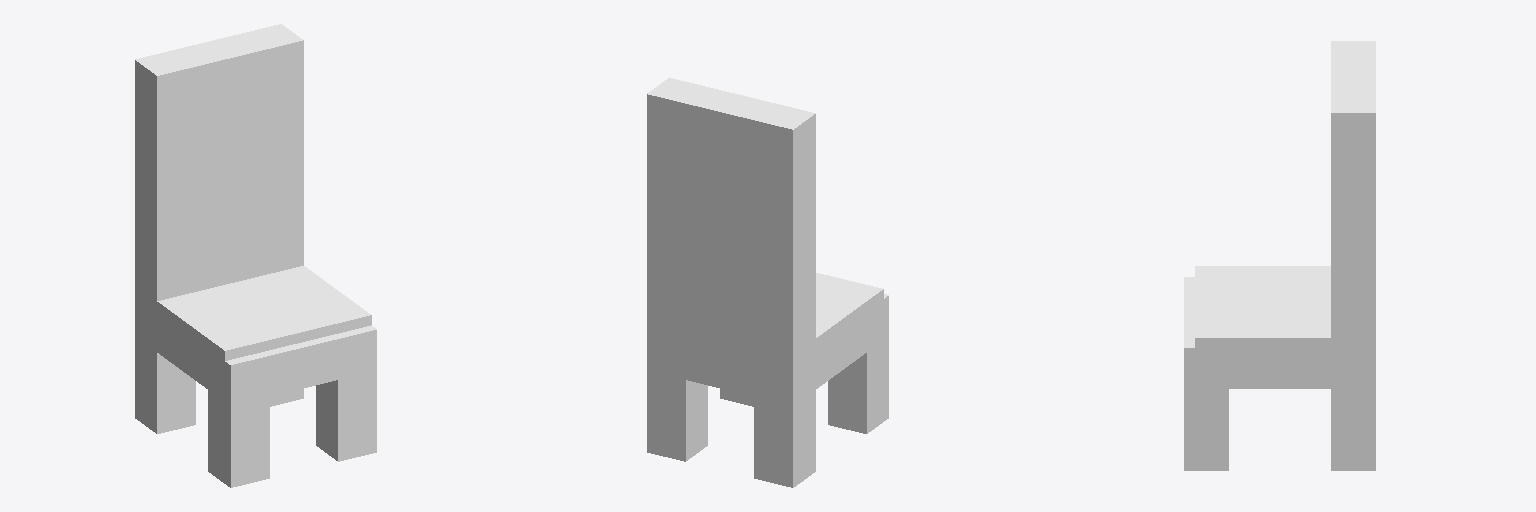
File: Chairtwo.obj
3 renders of one model, left to right at view 1: azimuth 30°, elevation 25°; view 2: azimuth 150°, elevation 25°; view 3: azimuth 270°, elevation 25°, orthographic.
Parts seen in each view (by area): view 1: object 1; view 2: object 1; view 3: object 1.
Boxes of the visible parts, x1,y1,x2,y2 form: object 1: [135, 24, 376, 487]; object 1: [647, 78, 888, 487]; object 1: [1184, 41, 1375, 470].
Bounding box in the file's own units: 1.5 × 3.5 × 1.7.